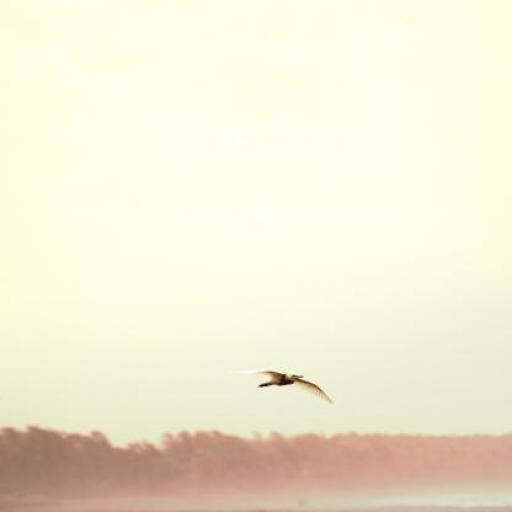bird: (225, 367, 335, 405)
